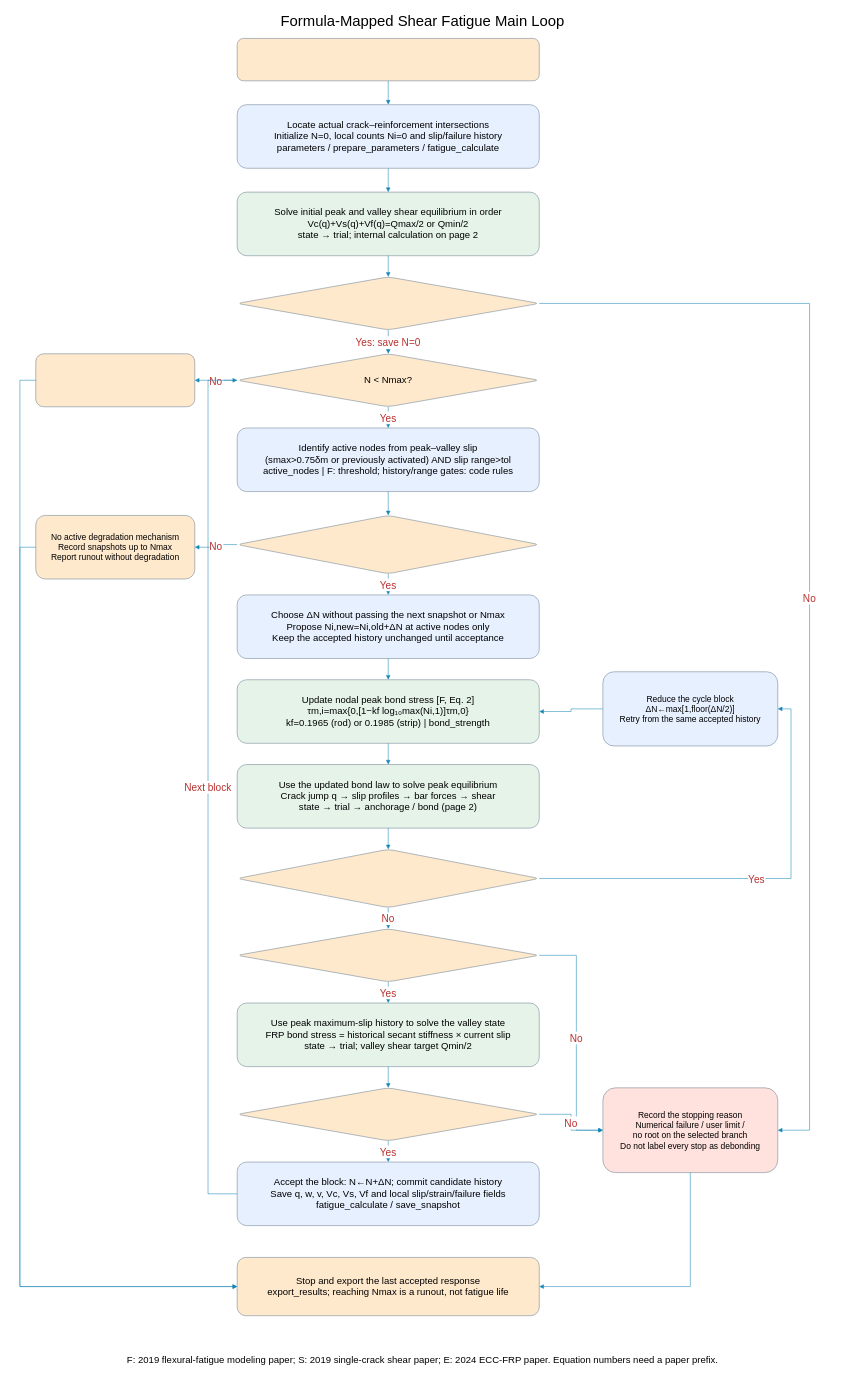
The diagram is 845 pixels wide and 1385 high, and some of its shapes have lost their labels. Each missing label, with the box of its shape:
Active nodes, or enabled steel/concrete S–N rules?: (237, 515, 539, 574)
Candidate peak equilibrium successful?: (237, 928, 539, 982)
Candidate valley equilibrium successful?: (237, 1087, 539, 1141)
Cycle limit reached Report runout: (35, 353, 195, 407)
Initial peak and valley solutions successful?: (237, 276, 539, 330)
Peak failed or q grew too fast, AND ΔN > 1?: (237, 849, 539, 908)
Start: specify the specimen and total loads Qmax, Qmin: (237, 38, 539, 81)
